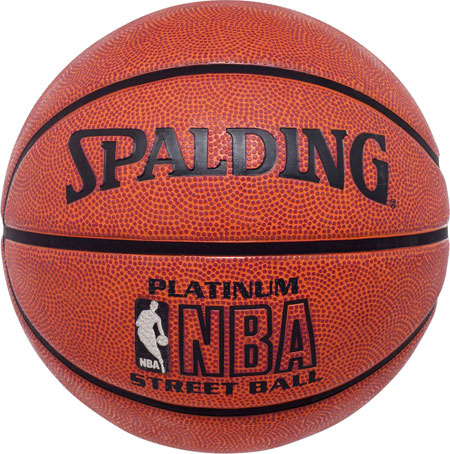basketball: (1, 2, 449, 451)
